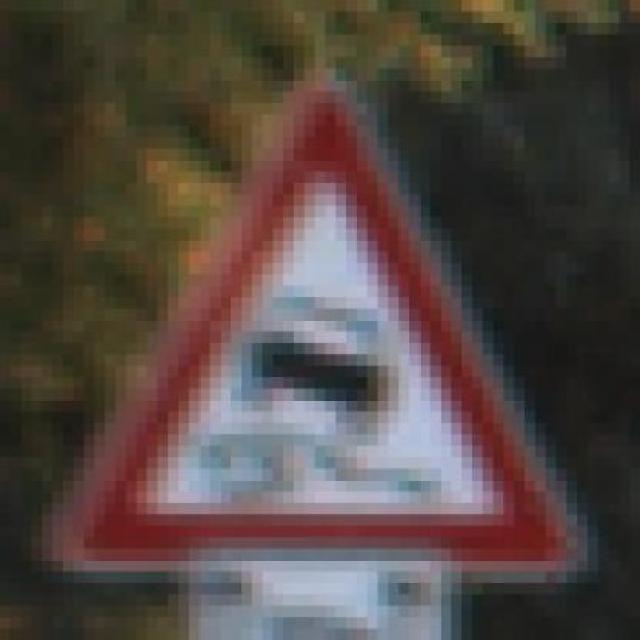Slippery Road Ahead: (41, 68, 598, 594)
